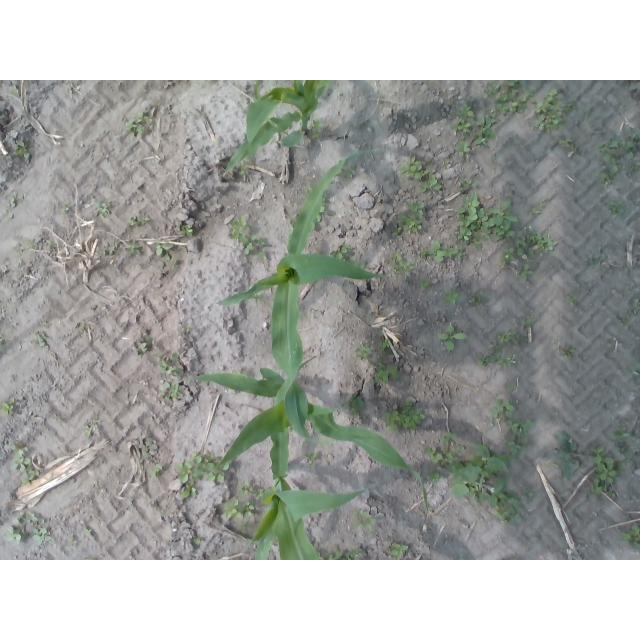Maize: (215, 149, 385, 442), (197, 367, 433, 518), (246, 388, 369, 560), (223, 80, 330, 177)
Weeds: (451, 444, 511, 508), (454, 195, 519, 252), (597, 130, 640, 186), (532, 89, 577, 135), (588, 444, 625, 499), (495, 80, 536, 114), (385, 401, 426, 434), (190, 451, 230, 484), (555, 431, 581, 477), (513, 232, 555, 260), (395, 201, 426, 238), (505, 418, 534, 455), (474, 108, 499, 148), (420, 239, 464, 261), (495, 489, 522, 524), (396, 155, 428, 181), (437, 325, 467, 351), (424, 446, 456, 470), (388, 251, 416, 278), (124, 111, 152, 138), (489, 398, 515, 427), (153, 242, 183, 267), (153, 352, 183, 376), (223, 497, 255, 519), (228, 216, 250, 245), (374, 361, 403, 383), (244, 235, 269, 259), (10, 442, 30, 471), (352, 510, 376, 534), (417, 172, 443, 192), (341, 396, 365, 417), (158, 382, 185, 400), (328, 242, 352, 262), (316, 550, 362, 560), (621, 524, 640, 548), (138, 436, 156, 461), (495, 330, 521, 347), (135, 333, 153, 356), (451, 118, 474, 135), (176, 461, 193, 484), (4, 526, 27, 543), (422, 466, 443, 484), (455, 176, 478, 192), (32, 528, 53, 545), (355, 341, 374, 359), (389, 542, 408, 560), (607, 199, 626, 217), (442, 290, 462, 307), (314, 197, 326, 224), (500, 248, 517, 267), (227, 371, 241, 394), (14, 139, 30, 159), (455, 103, 475, 119), (339, 161, 357, 178), (82, 419, 98, 438), (441, 430, 460, 446), (309, 120, 324, 140), (482, 82, 499, 99), (518, 264, 535, 281), (528, 201, 545, 218), (21, 469, 39, 485), (477, 353, 497, 367), (468, 292, 484, 309), (615, 445, 633, 460), (94, 202, 110, 218), (454, 140, 470, 156), (181, 482, 196, 499), (610, 426, 629, 439), (127, 216, 149, 227), (15, 513, 37, 524), (0, 401, 14, 416), (499, 353, 514, 367), (10, 191, 26, 204), (627, 298, 640, 314), (558, 138, 574, 151), (560, 345, 577, 357), (127, 243, 142, 256), (239, 482, 254, 495), (586, 253, 603, 264), (490, 341, 503, 355), (520, 317, 537, 327), (182, 224, 195, 237), (252, 293, 264, 307), (565, 294, 579, 306), (36, 333, 47, 348), (150, 464, 162, 477), (43, 239, 57, 250), (629, 362, 640, 376), (252, 487, 264, 499), (239, 163, 250, 176), (305, 451, 319, 461), (104, 243, 116, 254), (524, 488, 536, 499), (420, 278, 431, 289), (12, 243, 24, 253), (379, 338, 389, 350), (506, 382, 518, 392), (66, 537, 76, 548), (239, 524, 251, 533), (192, 535, 200, 545), (184, 324, 193, 332), (452, 554, 464, 560), (358, 260, 367, 268), (60, 204, 69, 212), (84, 528, 92, 537), (620, 316, 628, 325), (27, 242, 37, 249), (306, 184, 314, 192), (13, 85, 20, 94), (9, 212, 16, 221), (506, 556, 520, 560), (417, 509, 423, 515), (199, 80, 206, 84), (0, 339, 4, 346), (79, 328, 85, 332), (86, 557, 93, 560)
